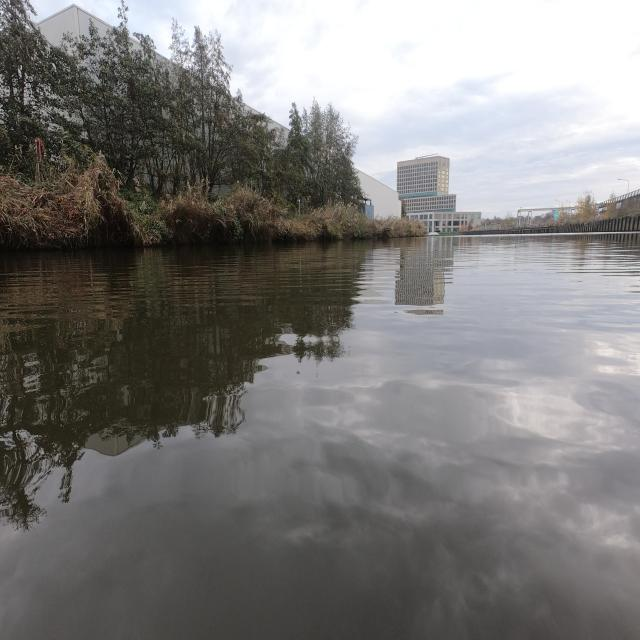reed: (0, 156, 426, 249)
sky: (144, 4, 638, 214)
water: (0, 236, 640, 640)
